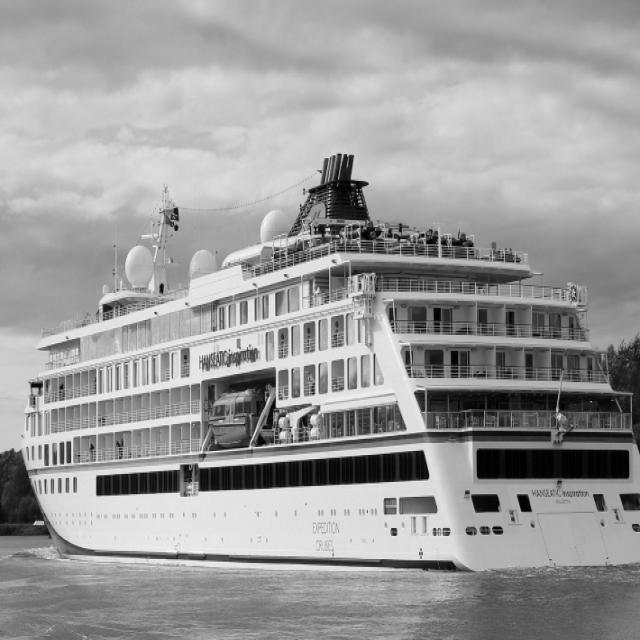cruises: (18, 148, 640, 584)
